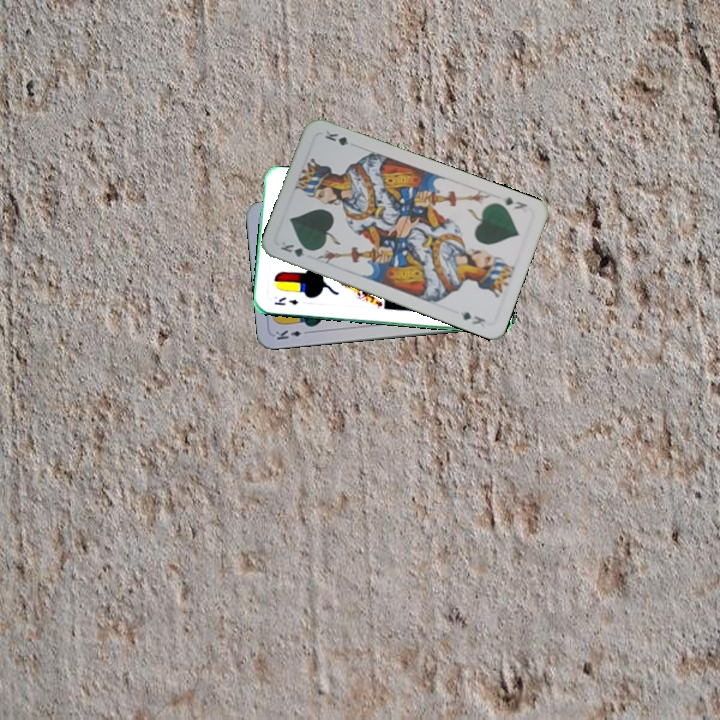EK: (271, 326, 312, 342), (270, 293, 300, 308)
GK: (276, 237, 316, 260), (497, 193, 530, 213)
